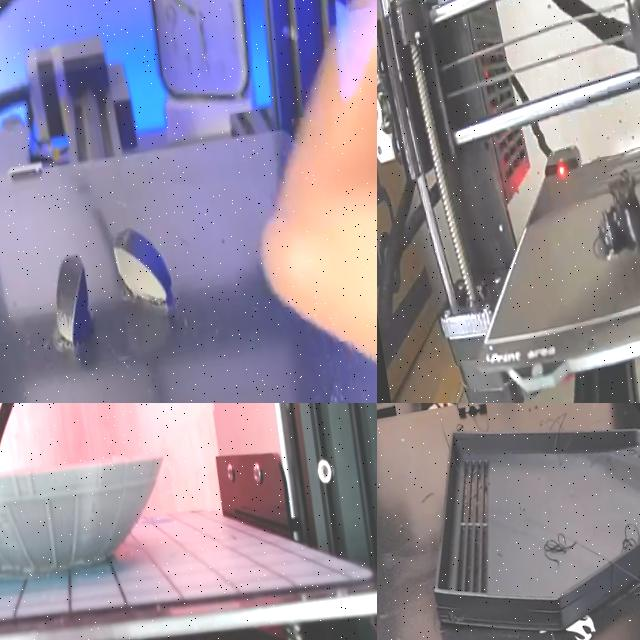spaghetti: (542, 526, 580, 569), (553, 403, 610, 417), (619, 523, 640, 556), (449, 410, 466, 432)
